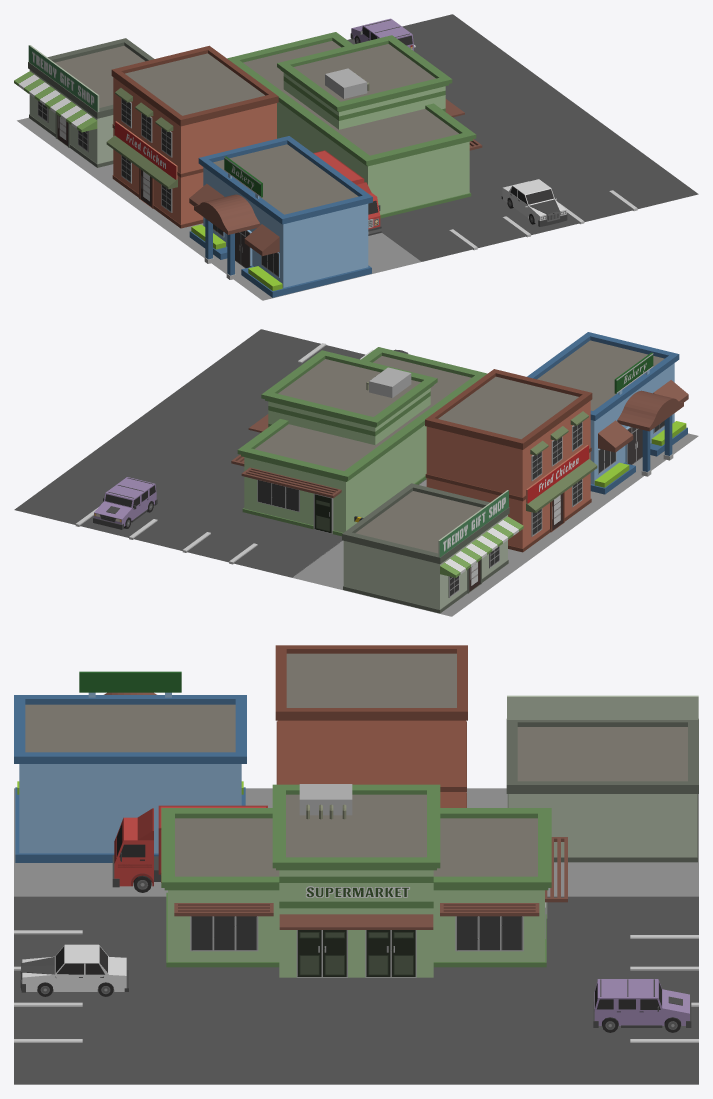
The model's file is supermarket.gltf.
3 renders of one model, top to bottom at view 1: azimuth 30°, elevation 25°; view 2: azimuth 150°, elevation 25°; view 3: azimuth 270°, elevation 25°, orthographic. The views are drawn at different scales.
Visible parts, largest first — view 1: Road Tile_Plane.003, Building_Super Market_Cube.025, Building_Bakery_Cube.003, Building_Chicken Shop_Cube.016, Building_Gift Shop_Cube.007, Road Concrete Tile_Plane.010, Vehicle_Car_Cube.050, Vehicle_Container_Cube.056, Vehicle_SUV_Cube.096, Props_Roof_prop_Cylinder.032; view 2: Road Tile_Plane.003, Building_Super Market_Cube.025, Building_Chicken Shop_Cube.016, Building_Gift Shop_Cube.007, Building_Bakery_Cube.003, Road Concrete Tile_Plane.010, Vehicle_SUV_Cube.096, Props_Roof_prop_Cylinder.032; view 3: Road Tile_Plane.003, Building_Super Market_Cube.025, Building_Bakery_Cube.003, Building_Gift Shop_Cube.007, Building_Chicken Shop_Cube.016, Road Concrete Tile_Plane.010, Vehicle_SUV_Cube.096, Vehicle_Car_Cube.050, Vehicle_Container_Cube.056, Props_Roof_prop_Cylinder.032.
Boxes of the visible parts, x1,y1,x2,y2 form: Road Tile_Plane.003: (347,14,698,261); Building_Super Market_Cube.025: (227,32,482,218); Building_Bakery_Cube.003: (189,136,372,297); Building_Chicken Shop_Cube.016: (106,45,278,228); Building_Gift Shop_Cube.007: (14,38,154,167); Road Concrete Tile_Plane.010: (17,117,421,300); Vehicle_Car_Cube.050: (501,179,567,226); Vehicle_Container_Cube.056: (313,150,381,235); Vehicle_SUV_Cube.096: (350,18,413,50); Props_Roof_prop_Cylinder.032: (325,68,369,98); Road Tile_Plane.003: (14,329,426,577); Building_Super Market_Cube.025: (231,347,487,536); Building_Chicken Shop_Cube.016: (425,369,597,552); Building_Gift Shop_Cube.007: (342,483,523,613); Building_Bakery_Cube.003: (527,332,688,494); Road Concrete Tile_Plane.010: (292,433,698,616); Vehicle_SUV_Cube.096: (93,477,157,529); Props_Roof_prop_Cylinder.032: (366,367,411,397); Road Tile_Plane.003: (14,896,698,1084); Building_Super Market_Cube.025: (161,784,567,977); Building_Bakery_Cube.003: (14,671,246,862); Building_Gift Shop_Cube.007: (506,695,698,862); Building_Chicken Shop_Cube.016: (275,645,467,807); Road Concrete Tile_Plane.010: (14,788,698,896); Vehicle_SUV_Cube.096: (593,979,691,1032); Vehicle_Car_Cube.050: (20,944,128,996); Vehicle_Container_Cube.056: (112,805,267,892); Props_Roof_prop_Cylinder.032: (299,784,352,819).
Size of the model in its own units: 41.85 by 9.86 by 40.
Materials: 12 (12 with a texture image).
